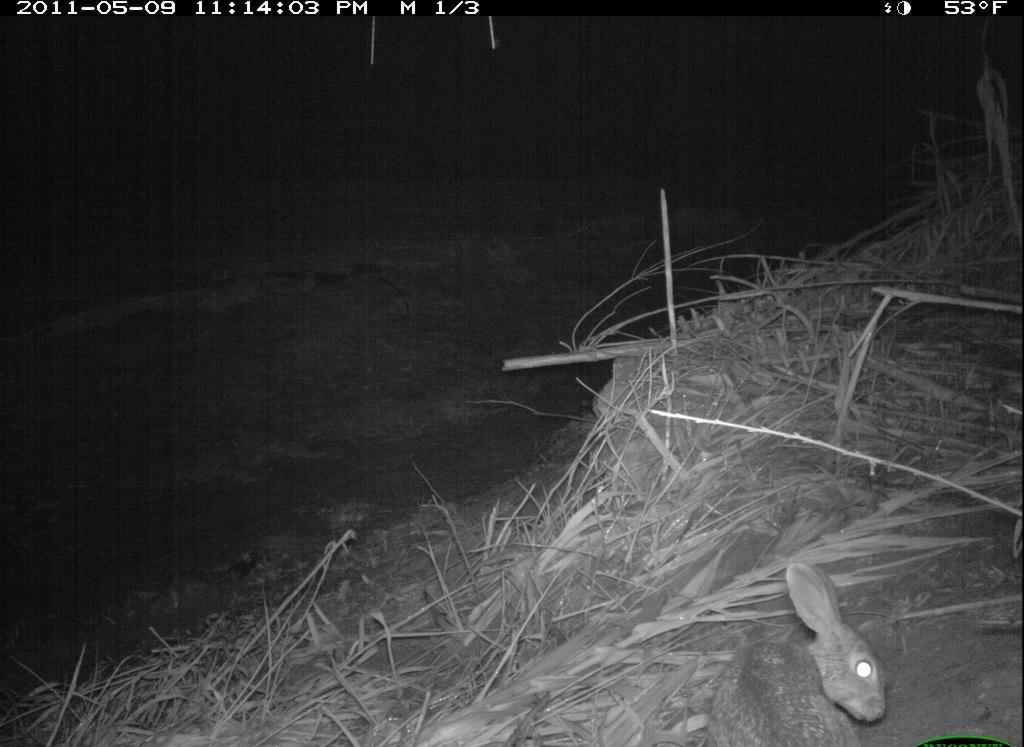rabbit: (685, 555, 898, 745)
